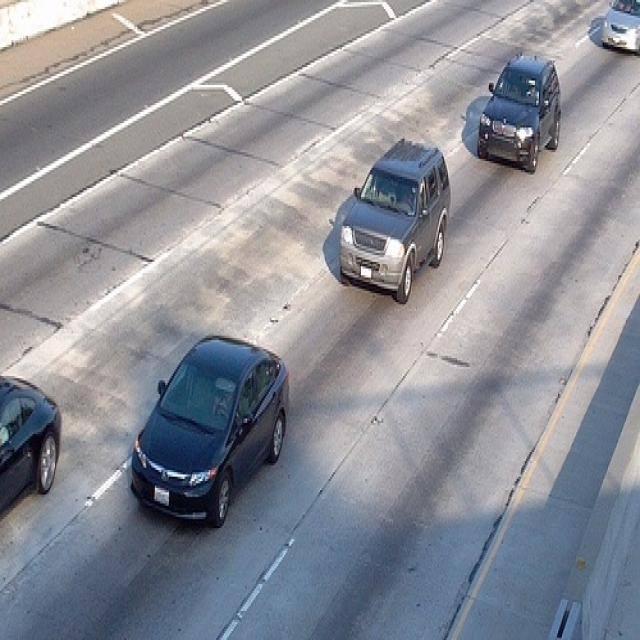Carro Cinza: (333, 144, 456, 296)
Carro Prata: (600, 0, 640, 59)
Carro Preto: (118, 318, 295, 539), (476, 58, 564, 174), (0, 368, 70, 512)
